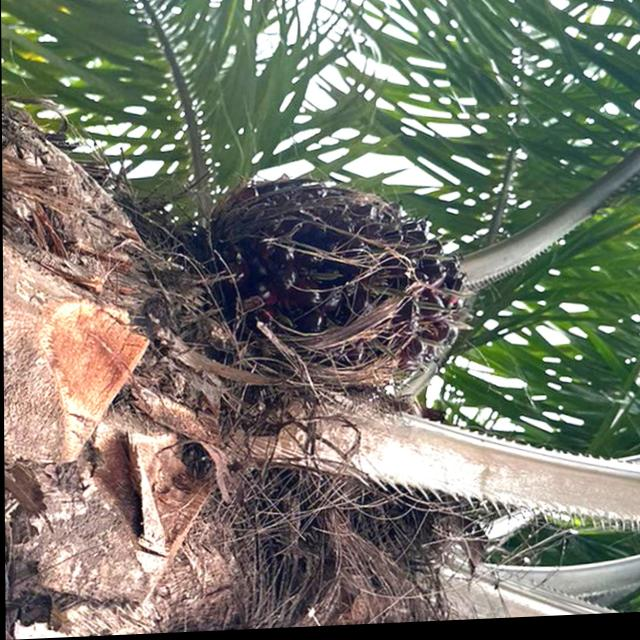ripe: (174, 151, 482, 428)
